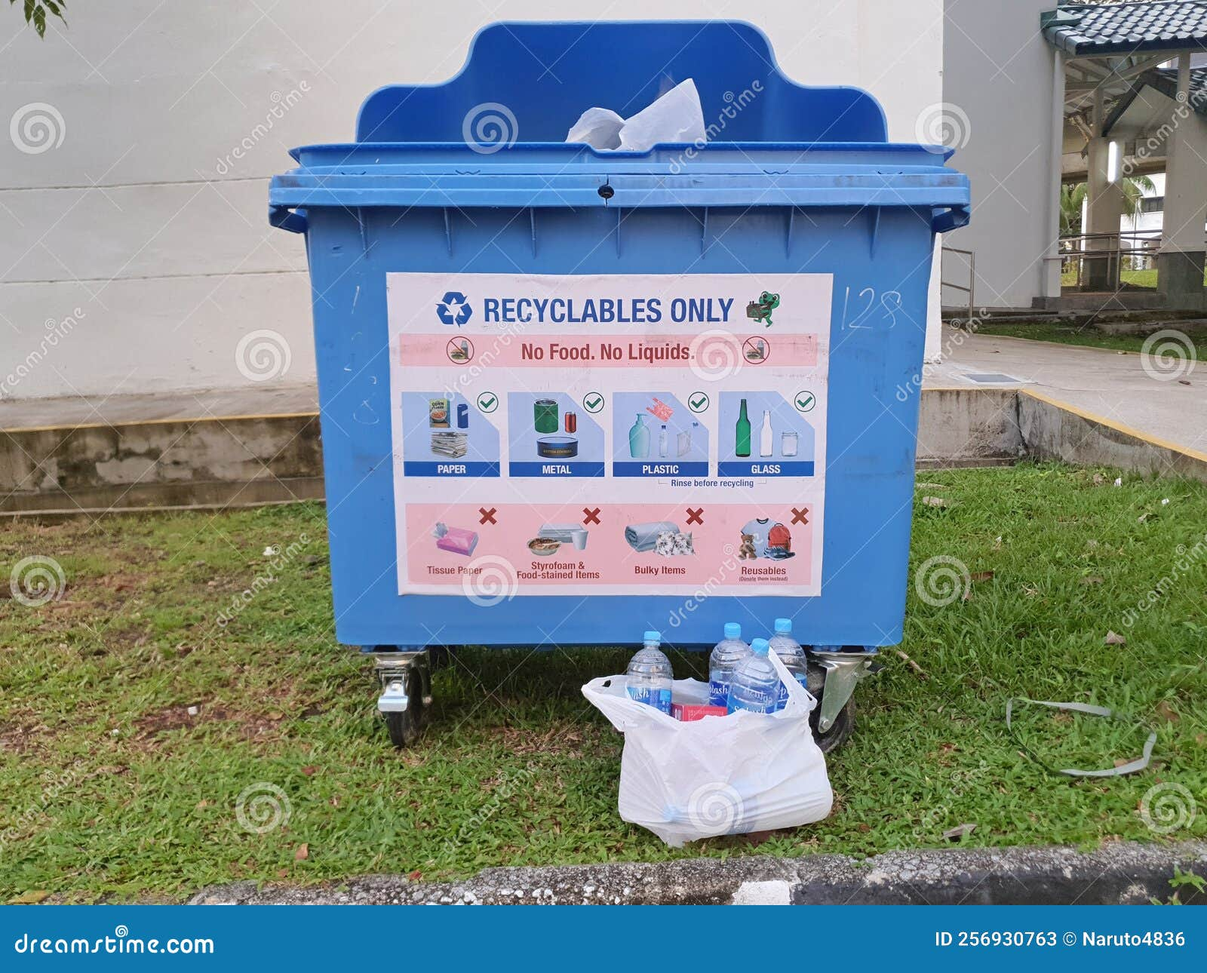bin_empty: (269, 23, 969, 651)
normal_waste: (582, 654, 832, 846), (727, 639, 782, 714), (626, 631, 672, 714), (709, 624, 750, 710), (769, 618, 806, 688), (777, 687, 787, 708)
